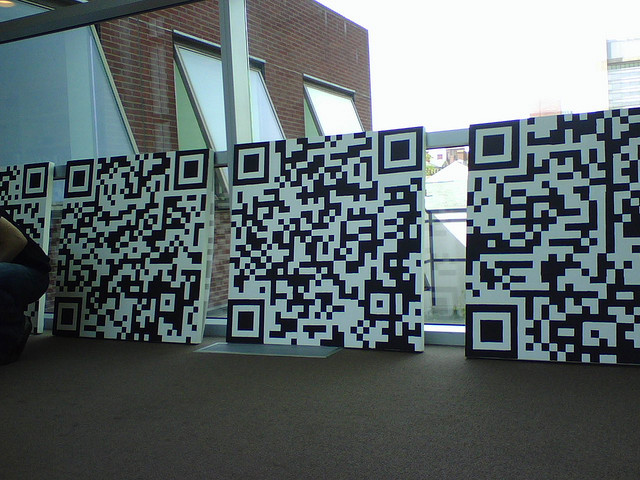QR-CODE: (465, 107, 639, 363), (226, 126, 422, 351), (52, 148, 208, 342), (0, 162, 48, 248)
